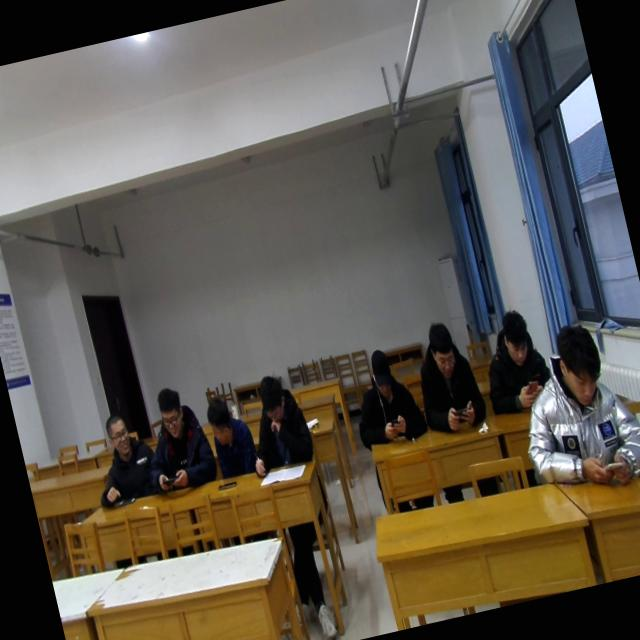down: (546, 316, 611, 412), (493, 302, 538, 370), (420, 310, 460, 381), (150, 382, 192, 446), (254, 369, 293, 431), (362, 344, 400, 404)
sit: (501, 311, 640, 499), (130, 378, 220, 498), (406, 316, 490, 439), (342, 341, 431, 451), (472, 304, 558, 415), (235, 369, 318, 480), (80, 403, 164, 508), (202, 391, 261, 478)
